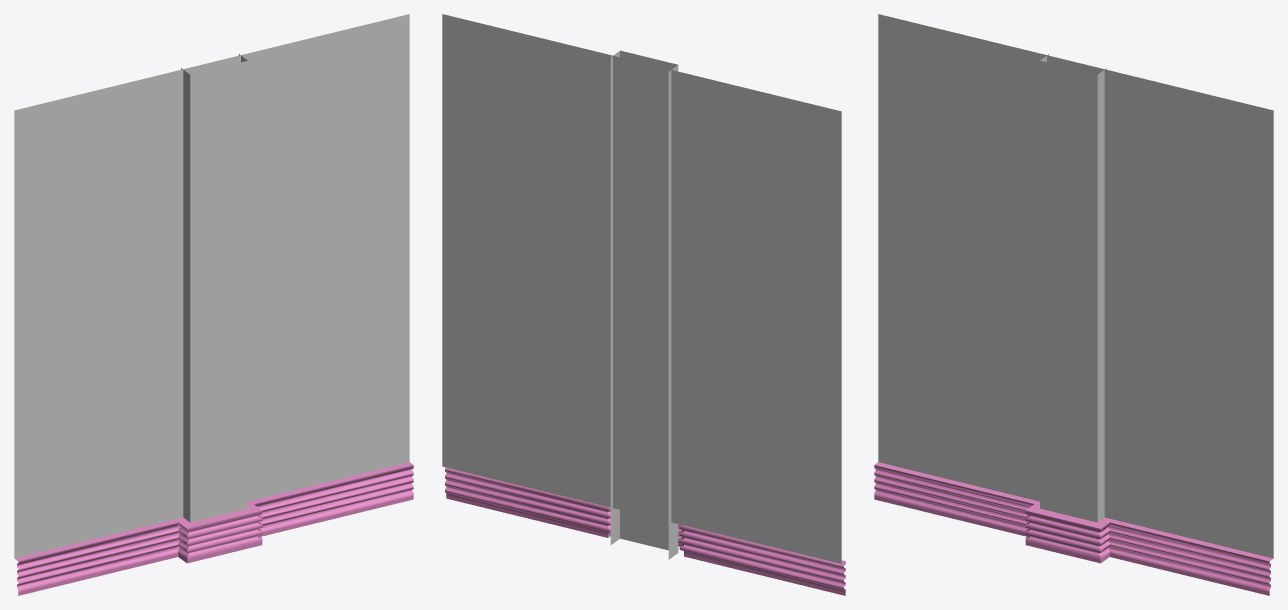
File: Wall1UV.fbx
3 views of the same model, side by side, from view 1: azimuth 30°, elevation 25°; view 2: azimuth 150°, elevation 25°; view 3: azimuth 330°, elevation 25° (orthographic).
Parts seen in each view (by area): view 1: Cube.008; view 2: Cube.008; view 3: Cube.008.
Part boxes in pixels (x1=…): Cube.008: x1=14, y1=14, x2=413, y2=595; Cube.008: x1=442, y1=14, x2=845, y2=595; Cube.008: x1=874, y1=14, x2=1273, y2=595.
Bounding box in the file's own units: 600 × 701 × 39.8.
